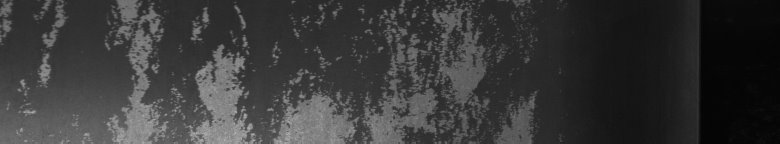kb: (4, 4, 537, 136)
